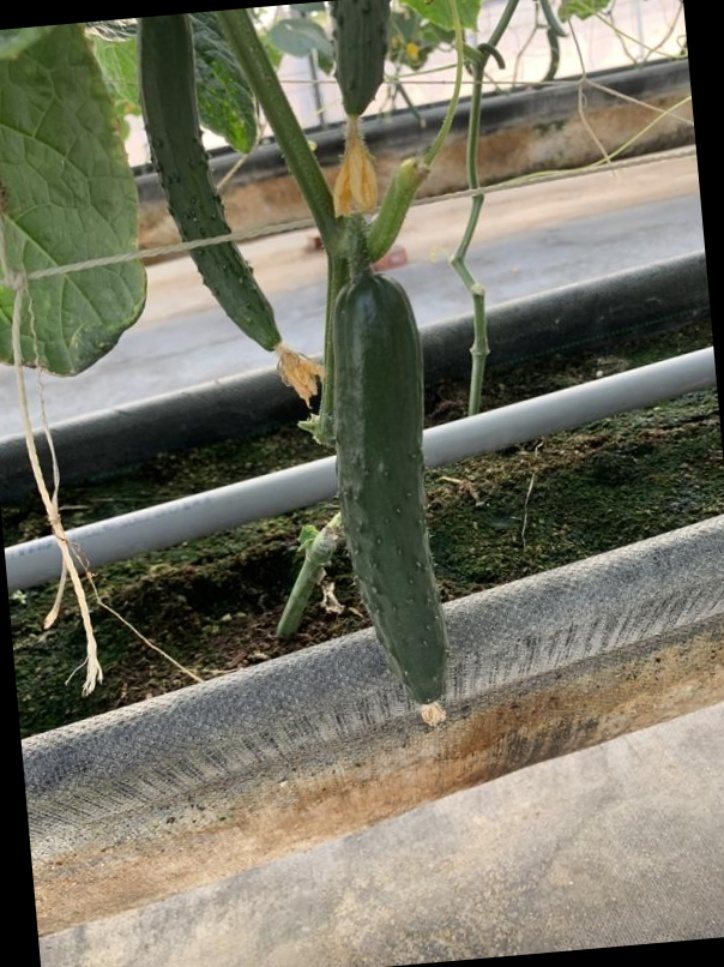mature: (325, 276, 459, 714), (129, 14, 280, 351)
